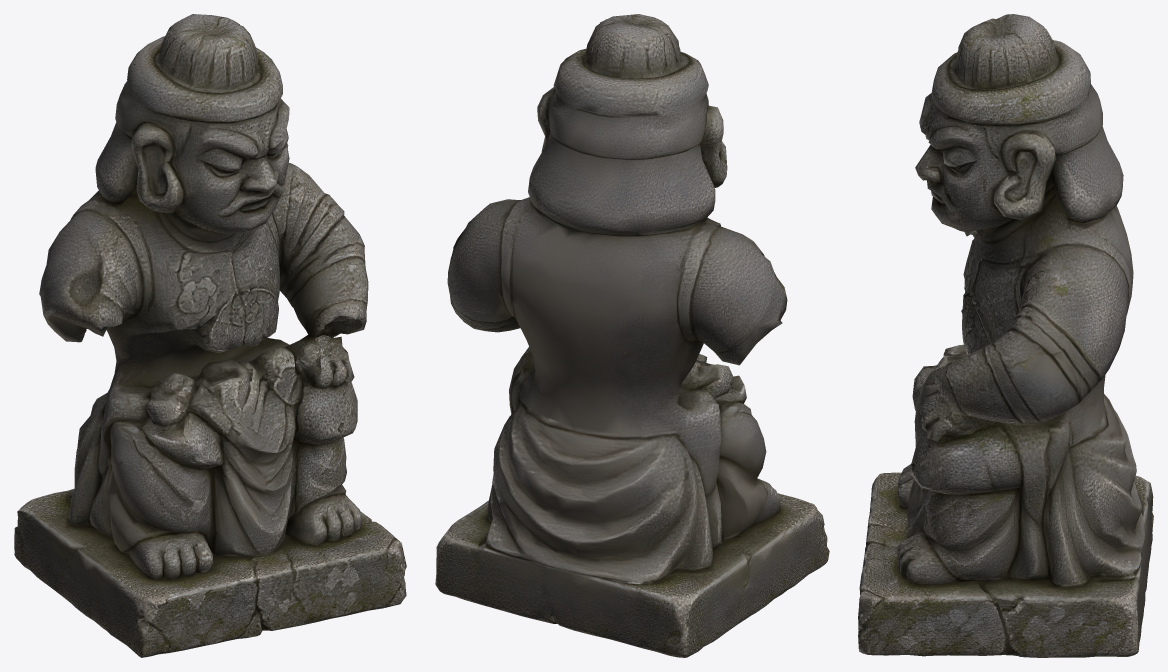
Rendered from broken_statue.glb.
The picture shows the model from 3 angles, left to right: view 1: azimuth 30°, elevation 25°; view 2: azimuth 150°, elevation 25°; view 3: azimuth 270°, elevation 25°; orthographic projection.
Parts seen in each view (by area): view 1: tripo_node_7fe8b0b0-e430-4ea5-b45b-1c7da7566772; view 2: tripo_node_7fe8b0b0-e430-4ea5-b45b-1c7da7566772; view 3: tripo_node_7fe8b0b0-e430-4ea5-b45b-1c7da7566772.
Boxes of the visible parts, box(x1,y1,x2,y2) form: tripo_node_7fe8b0b0-e430-4ea5-b45b-1c7da7566772: box(14, 14, 406, 657); tripo_node_7fe8b0b0-e430-4ea5-b45b-1c7da7566772: box(435, 14, 829, 657); tripo_node_7fe8b0b0-e430-4ea5-b45b-1c7da7566772: box(858, 14, 1153, 657).
Bounding box in the file's own units: 0.7739 × 1.3 × 0.6107.
Materials: 1 (1 with a texture image).
